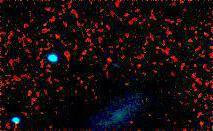star: (92, 46, 122, 76)
